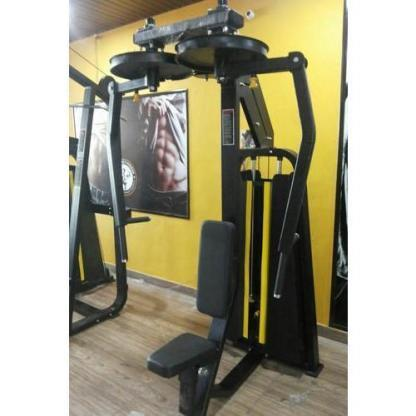chest fly machine: (69, 0, 338, 416)
